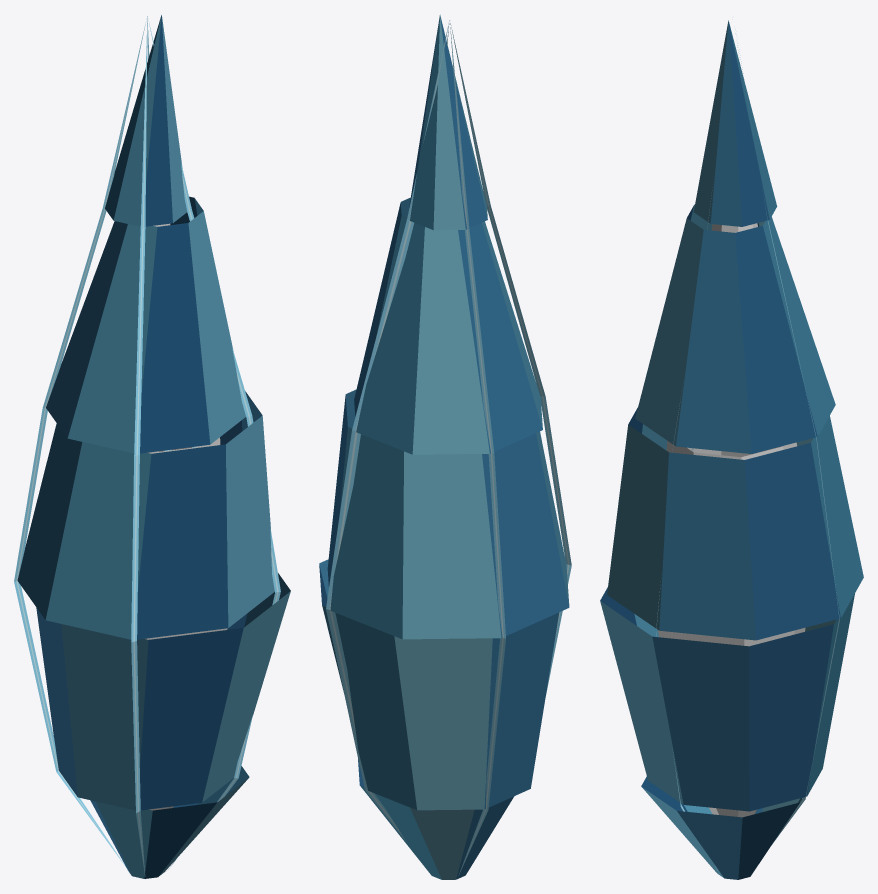
The model's file is Kaeya_Icicle.fbx.
3 views of the same model, side by side, from view 1: azimuth 30°, elevation 25°; view 2: azimuth 150°, elevation 25°; view 3: azimuth 270°, elevation 25° (orthographic).
Parts seen in each view (by area): view 1: ASSET_KaeyaIcicle_CrystalBody, ASSET_KaeyaIcicle; view 2: ASSET_KaeyaIcicle_CrystalBody, ASSET_KaeyaIcicle; view 3: ASSET_KaeyaIcicle_CrystalBody, ASSET_KaeyaIcicle_MilkyTrappedIce, ASSET_KaeyaIcicle.
Boxes of the visible parts, <box> form: ASSET_KaeyaIcicle_CrystalBody: <box>17,15,290,878</box>; ASSET_KaeyaIcicle: <box>14,16,280,876</box>; ASSET_KaeyaIcicle_CrystalBody: <box>319,14,569,879</box>; ASSET_KaeyaIcicle: <box>326,20,571,876</box>; ASSET_KaeyaIcicle_CrystalBody: <box>600,20,863,879</box>; ASSET_KaeyaIcicle_MilkyTrappedIce: <box>658,223,805,817</box>; ASSET_KaeyaIcicle: <box>656,33,839,873</box>.
Bounding box in the file's own units: 35.17 × 123 × 34.27.
